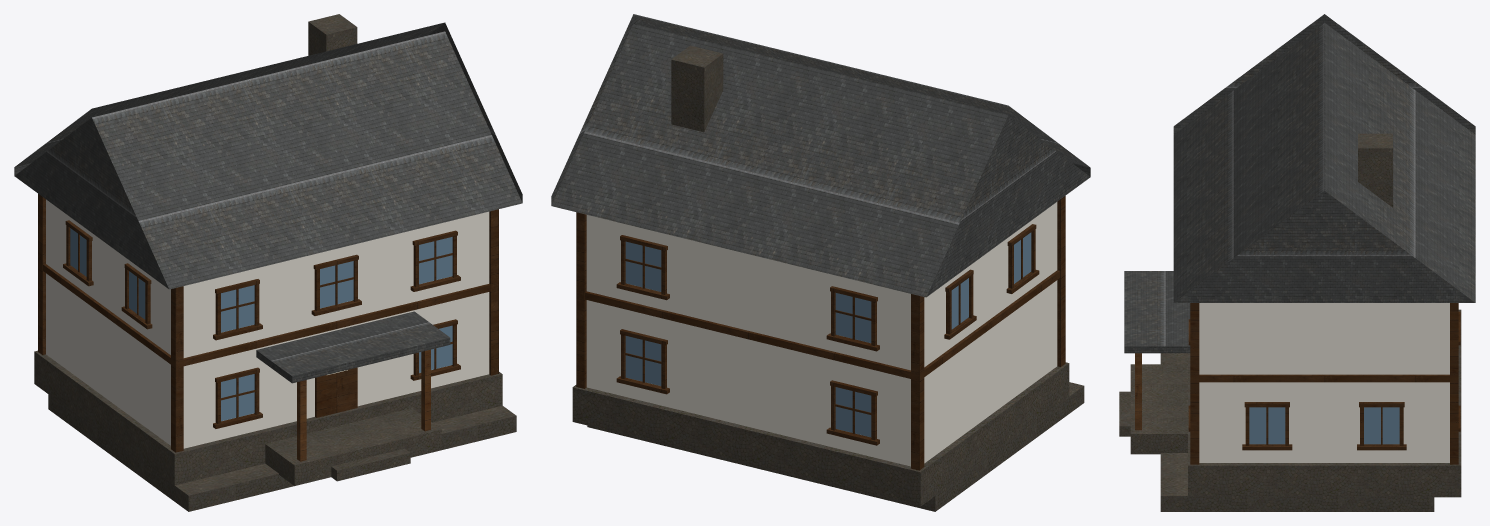
Rendered from town_house.gltf.
The picture shows the model from 3 angles, left to right: view 1: azimuth 30°, elevation 25°; view 2: azimuth 150°, elevation 25°; view 3: azimuth 270°, elevation 25°; orthographic projection. The views are drawn at different scales.
Visible parts, largest first — view 1: TownHouse; view 2: TownHouse; view 3: TownHouse.
Boxes of the visible parts, left/top/right/bottom form: TownHouse: left=14, top=14, right=522, bottom=511; TownHouse: left=551, top=14, right=1090, bottom=511; TownHouse: left=1119, top=14, right=1475, bottom=511.
Size of the model in its own units: 12.5 by 11.66 by 11.2.
7 materials, 4 textured.
